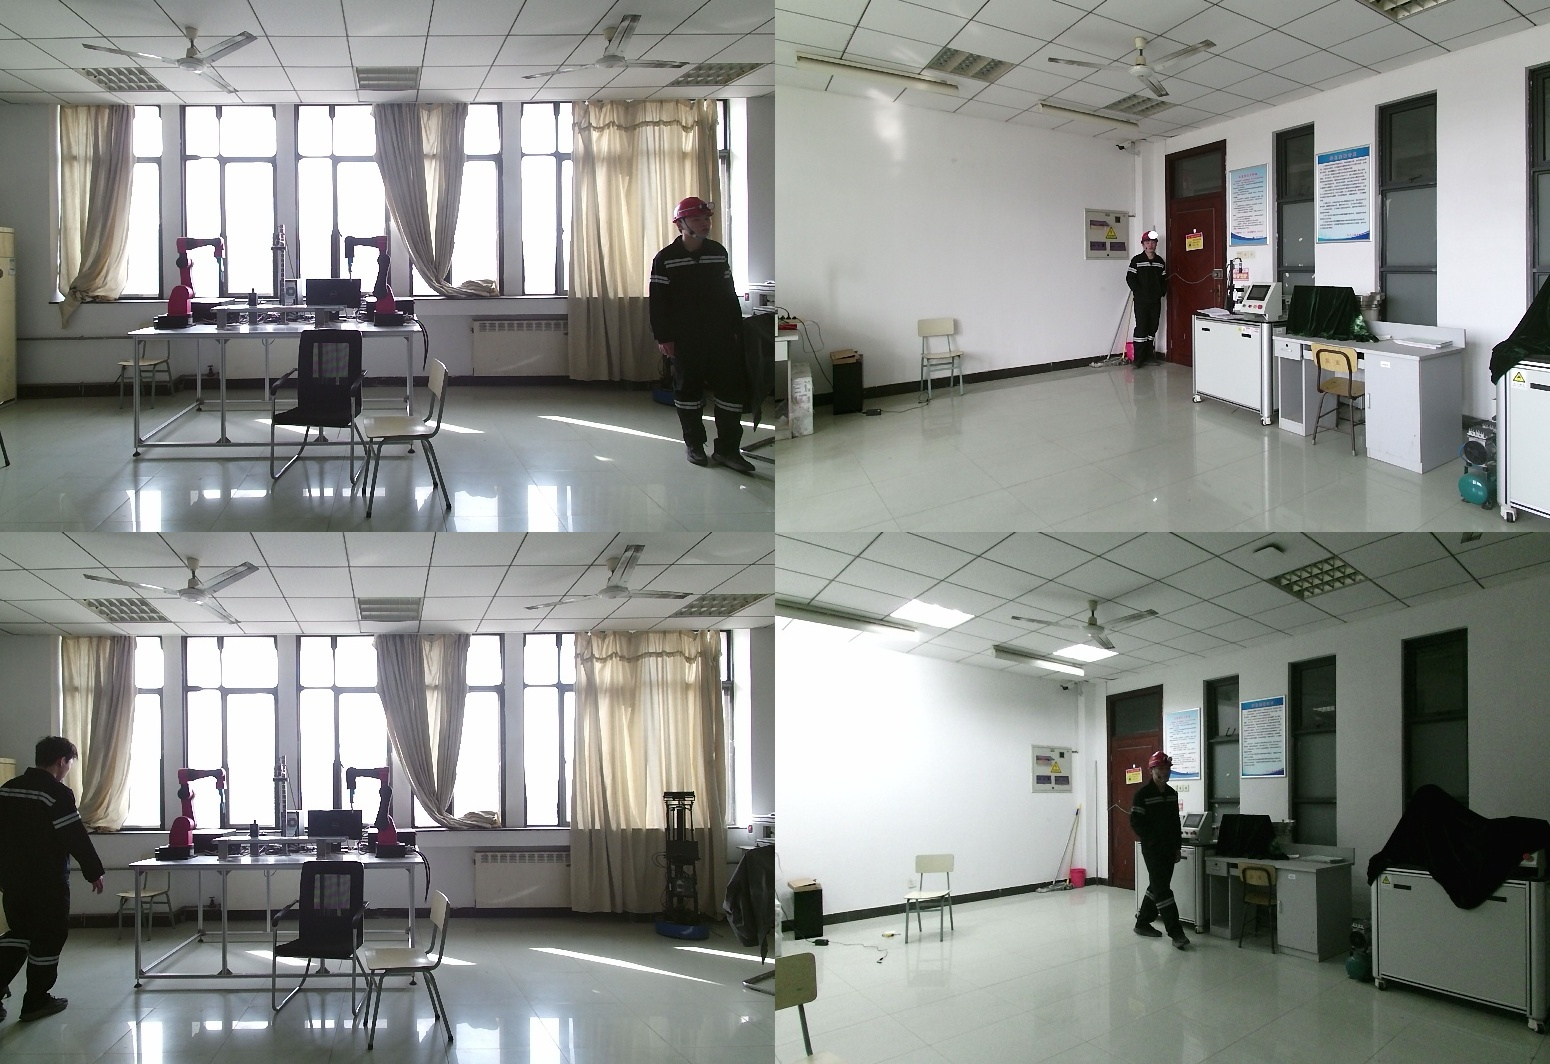person: (1, 736, 106, 1019), (651, 199, 757, 470), (1121, 751, 1189, 948), (1124, 232, 1167, 371)
